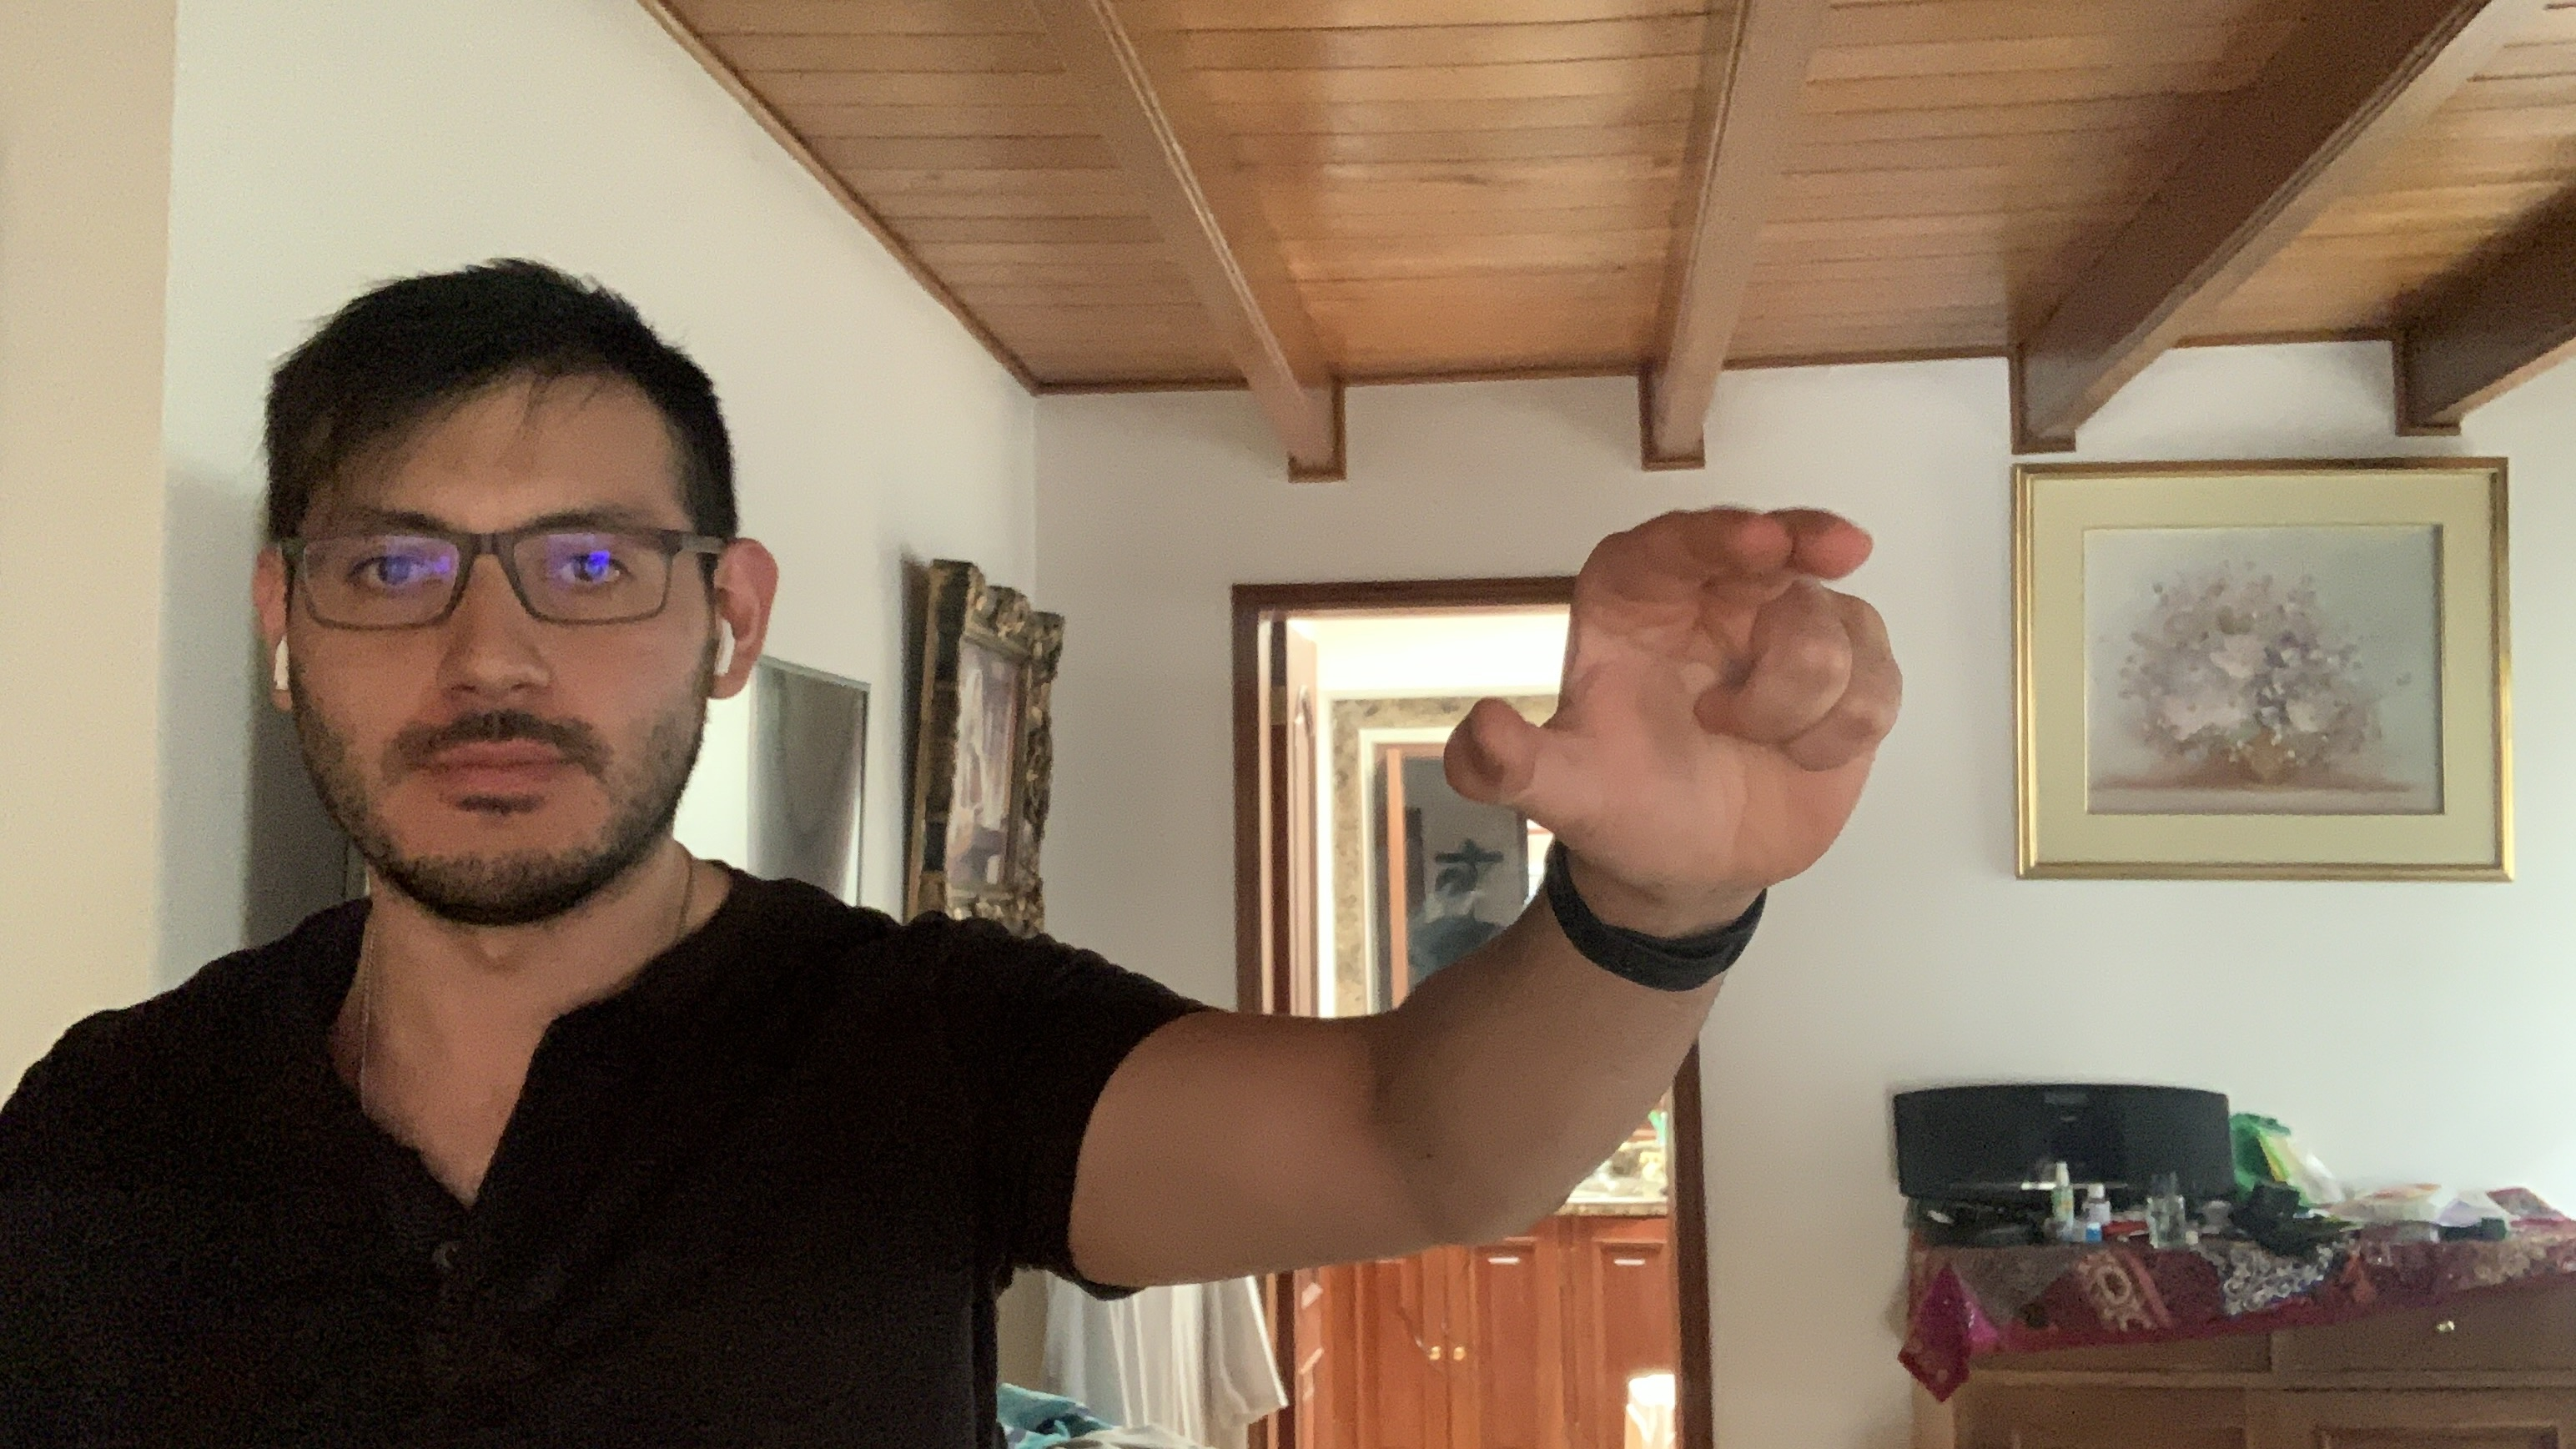No: (1430, 504, 1932, 906)
